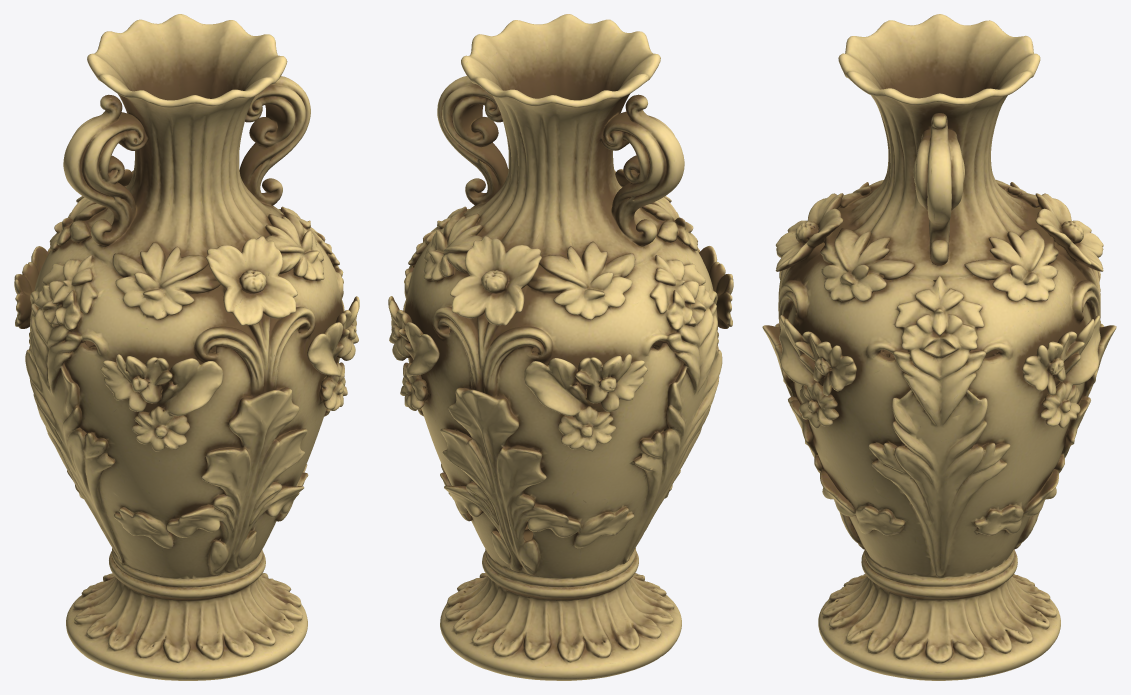
Rendered from statutt4.glb.
3 views of the same model, side by side, from view 1: azimuth 30°, elevation 25°; view 2: azimuth 150°, elevation 25°; view 3: azimuth 270°, elevation 25° (orthographic).
Visible parts, largest first — view 1: vase; view 2: vase; view 3: vase.
Boxes of the visible parts, left/top/right/bottom form: vase: left=14, top=14, right=359, bottom=680; vase: left=388, top=14, right=733, bottom=680; vase: left=762, top=14, right=1116, bottom=680.
Bounding box in the file's own units: 0.3611 × 0.691 × 0.3833.
1 material, 1 textured.
